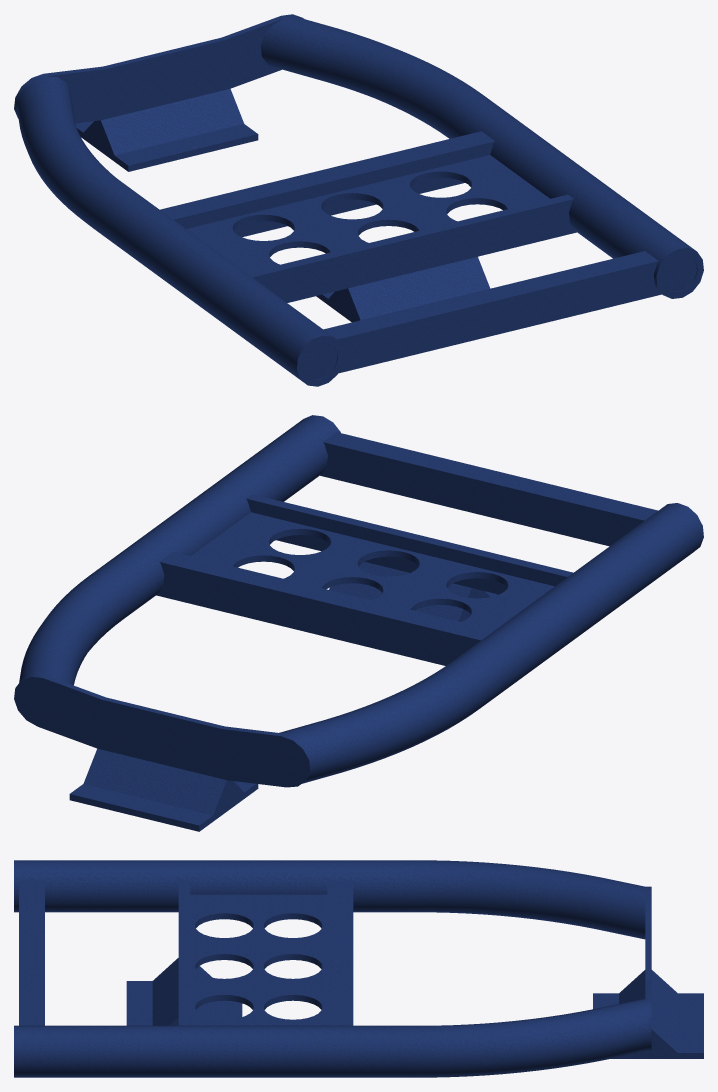
Rendered from Storage Feeder.dae.
3 views of the same model, one above another, from view 1: azimuth 30°, elevation 25°; view 2: azimuth 150°, elevation 25°; view 3: azimuth 270°, elevation 25° (orthographic). The views are drawn at different scales.
Visible parts, largest first — view 1: Track (×4); view 2: Track (×2); view 3: Track (×8).
Boxes of the visible parts, left/top/right/bottom form: Track (×4): left=14, top=14, right=703, bottom=386; Track (×2): left=14, top=415, right=703, bottom=831; Track (×8): left=14, top=860, right=703, bottom=1077.
Bounding box in the file's own units: 53.48 × 83.23 × 11.12.
2 materials, 1 textured.
